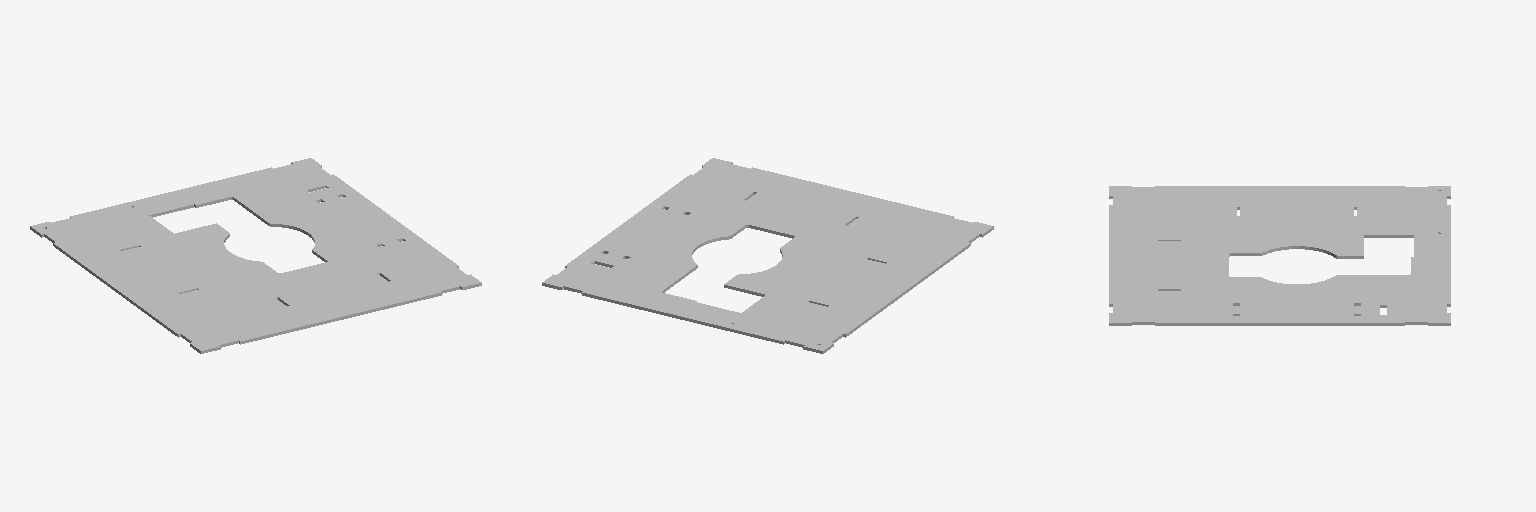
The model's file is основание фанера.obj.
3 renders of one model, left to right at view 1: azimuth 30°, elevation 25°; view 2: azimuth 150°, elevation 25°; view 3: azimuth 270°, elevation 25°, orthographic.
Visible parts, largest first — view 1: Твердое тело1; view 2: Твердое тело1; view 3: Твердое тело1.
Boxes of the visible parts, <box> form: Твердое тело1: <box>30,158,481,353</box>; Твердое тело1: <box>542,158,993,353</box>; Твердое тело1: <box>1109,186,1450,325</box>.
Size of the model in its own units: 285 by 3 by 300.